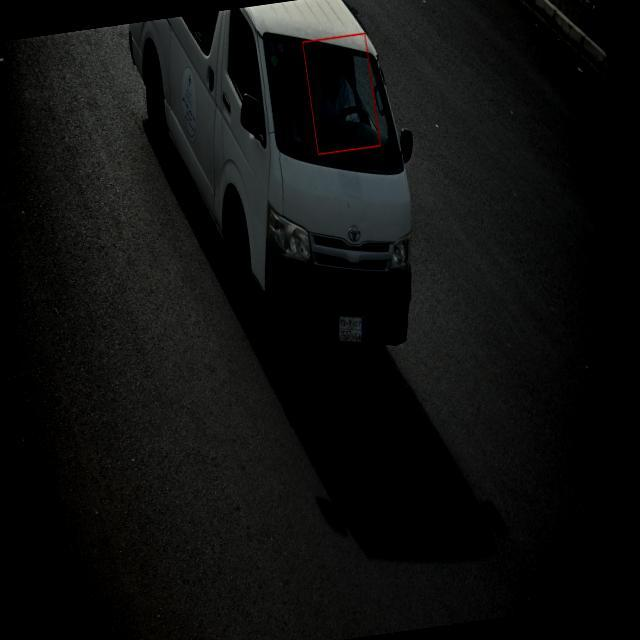windshield: (252, 31, 408, 181)
